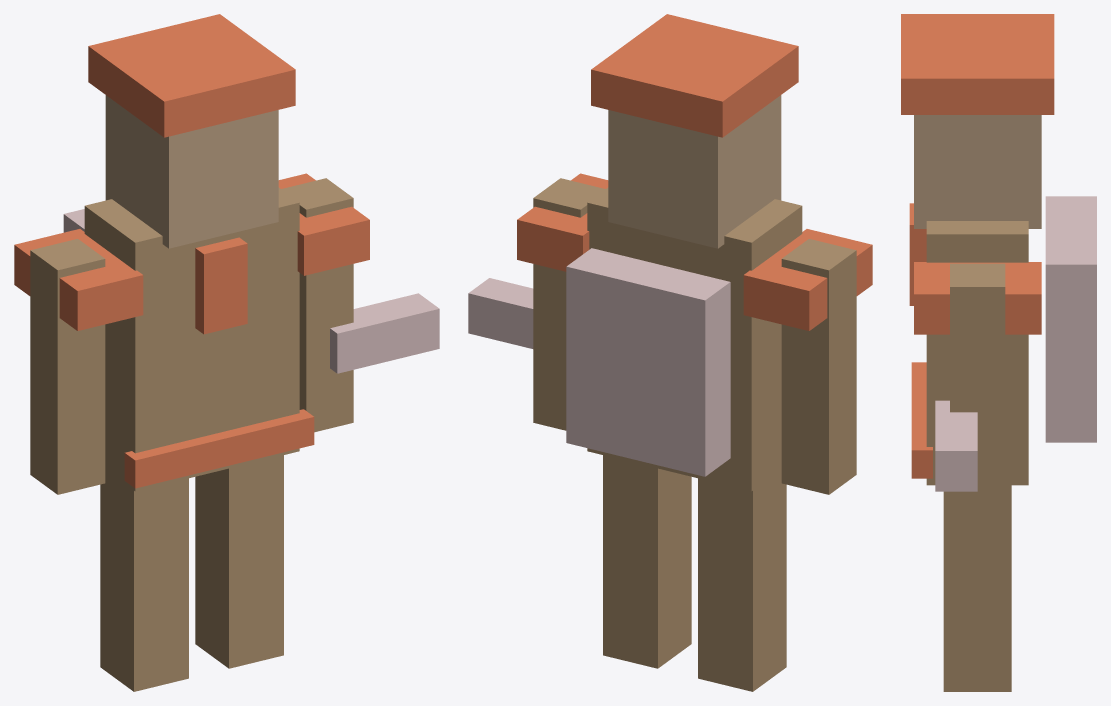
Rendered from 17_quill_cinderholt_watcher_from_verse.glb.
3 renders of one model, left to right at view 1: azimuth 30°, elevation 25°; view 2: azimuth 150°, elevation 25°; view 3: azimuth 270°, elevation 25°, orthographic.
Visible parts, largest first — view 1: Quill Cinderholt, Watcher from Verse; view 2: Quill Cinderholt, Watcher from Verse; view 3: Quill Cinderholt, Watcher from Verse.
Part boxes in pixels (bbox=[...]): Quill Cinderholt, Watcher from Verse: bbox=[14, 14, 439, 691]; Quill Cinderholt, Watcher from Verse: bbox=[468, 14, 872, 691]; Quill Cinderholt, Watcher from Verse: bbox=[901, 14, 1096, 691].
Bounding box in the file's own units: 0.9989 × 1.54 × 0.4483.
